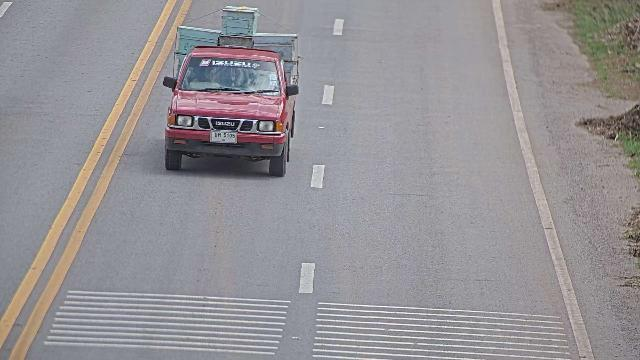pickup-truck: (162, 44, 299, 177)
